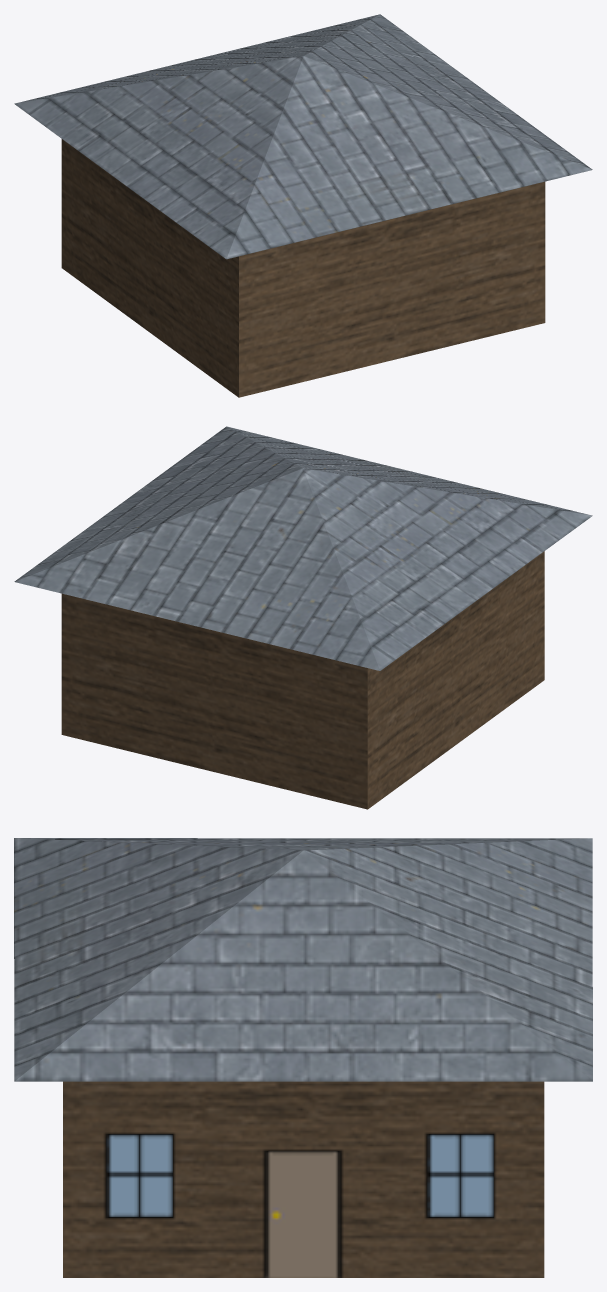
Rendered from House V1.fbx.
3 views of the same model, one above another, from view 1: azimuth 30°, elevation 25°; view 2: azimuth 150°, elevation 25°; view 3: azimuth 270°, elevation 25° (orthographic). The views are drawn at different scales.
Parts seen in each view (by area): view 1: Cube; view 2: Cube; view 3: Cube.
Part boxes in pixels (x1,y1,x2,y2): Cube: (14,14,592,397); Cube: (14,426,592,809); Cube: (14,838,592,1277).
Bounding box in the file's own units: 239 × 149 × 240.
